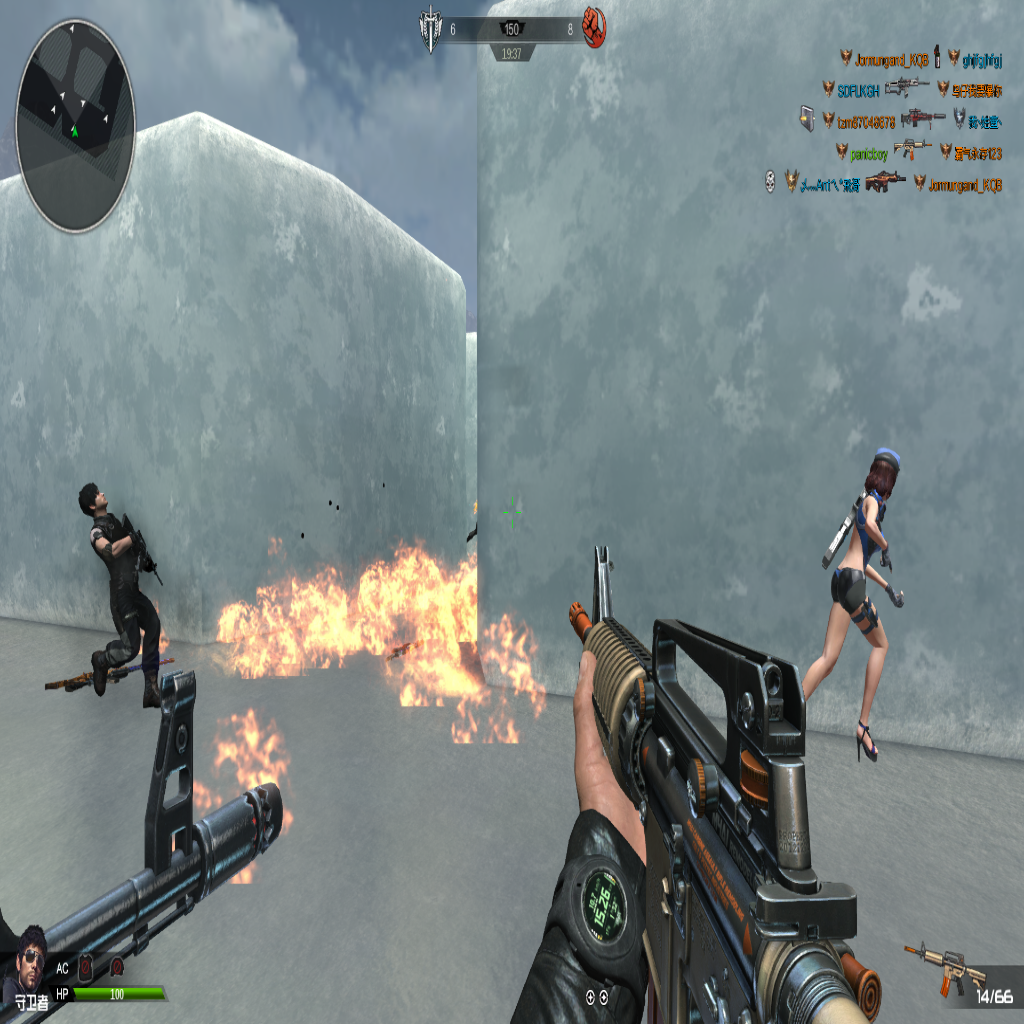ct: (794, 448, 907, 777), (78, 484, 165, 702)
